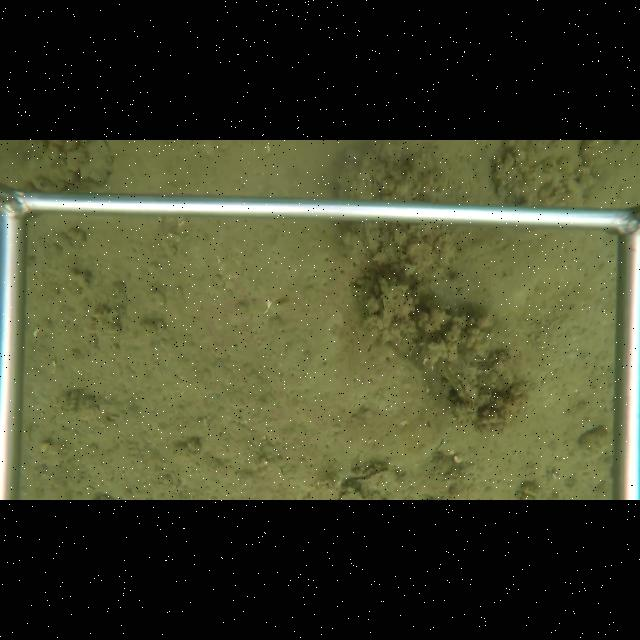Oyster-Closed: (335, 465, 408, 499), (439, 361, 484, 412)
